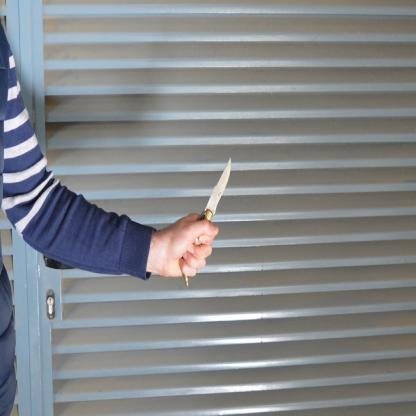knife: (182, 149, 233, 288)
